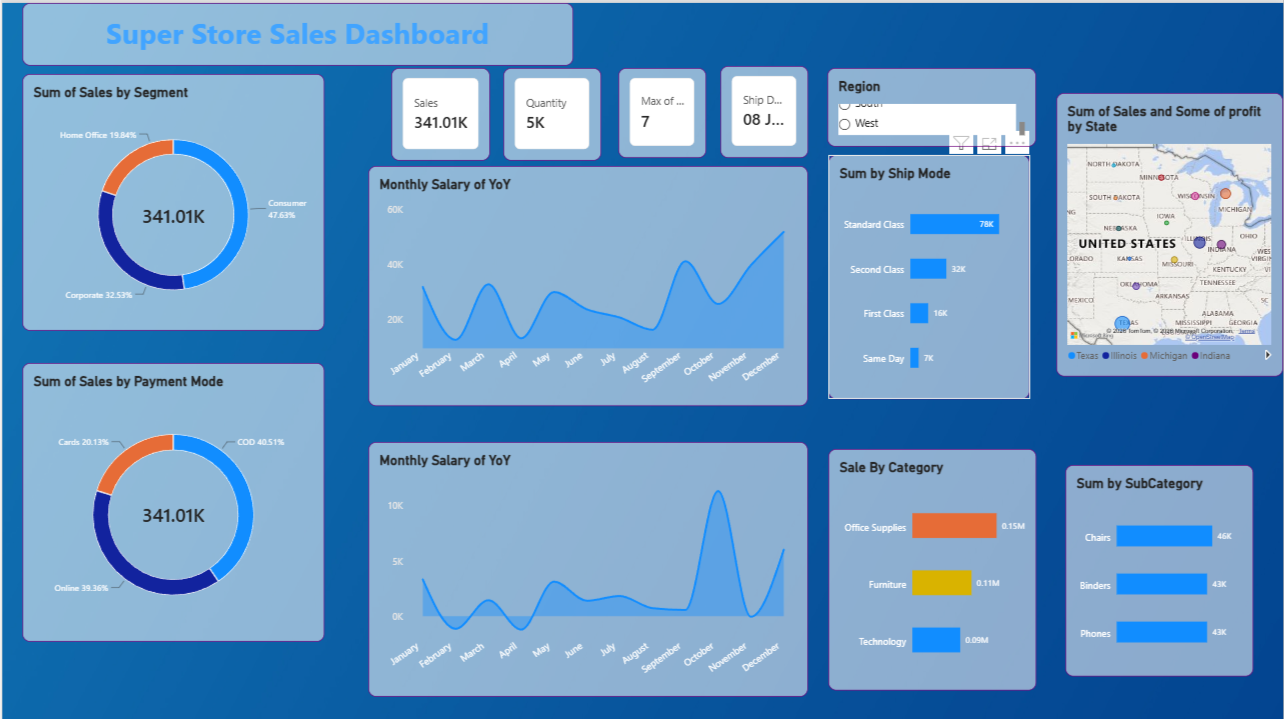

Layout of this report page (visuals, bound fields, positions):
{"tool":"powerbi","page":{"name":"Page 1","canvas":[1920,1080],"ordinal":0},"visuals":[{"type":"clusteredBarChart","title":"Sum by SubCategory","fields":{"Category":["SuperStore_Sales_Dataset.Sub-Category"],"Y":["Sum(SuperStore_Sales_Dataset.Sales)"]},"box":[1593.2,693,281.6,316.6],"z":0},{"type":"clusteredBarChart","title":"Sum by Ship Mode","fields":{"Category":["SuperStore_Sales_Dataset.Ship Mode"],"Y":["Sum(SuperStore_Sales_Dataset.Sales)"]},"box":[1238.7,227.6,302,366.2],"z":1000},{"type":"areaChart","title":"Monthly Salary of YoY","fields":{"Category":["SuperStore_Sales_Dataset.Order Date.Variation.Date Hierarchy.Month","SuperStore_Sales_Dataset.Order Date.Variation.Date Hierarchy.Day"],"Y":["Sum(SuperStore_Sales_Dataset.Sales)"]},"box":[548.6,243.6,659.5,360.4],"z":2000},{"type":"areaChart","title":"Monthly Salary of YoY","fields":{"Category":["SuperStore_Sales_Dataset.Order Date.Variation.Date Hierarchy.Month","SuperStore_Sales_Dataset.Order Date.Variation.Date Hierarchy.Day"],"Y":["Sum(SuperStore_Sales_Dataset.Profit)"]},"box":[548.6,658,659.5,382.2],"z":3000},{"type":"map","title":"Sum of Sales and Some of profit by State","fields":{"Category":["SuperStore_Sales_Dataset.State"],"Series":["SuperStore_Sales_Dataset.State"],"Size":["Sum(SuperStore_Sales_Dataset.Sales)"]},"box":[1580.1,134.2,339.9,424.6],"z":4000},{"type":"clusteredBarChart","title":"Sale By Category","fields":{"Category":["SuperStore_Sales_Dataset.Category"],"Y":["Sum(SuperStore_Sales_Dataset.Sales)"]},"box":[1238.7,668.2,312.2,361.8],"z":5000},{"type":"donutChart","fields":{"Category":["SuperStore_Sales_Dataset.Segment"],"Y":["Sum(SuperStore_Sales_Dataset.Sales)"]},"box":[30,106.4,452.6,385.2],"z":6000},{"type":"donutChart","fields":{"Category":["SuperStore_Sales_Dataset.Payment Mode"],"Y":["Sum(SuperStore_Sales_Dataset.Sales)"]},"box":[30,539.6,452.6,418.2],"z":7000},{"type":"listSlicer","fields":{"Values":["SuperStore_Sales_Dataset.Region"]},"box":[1236.5,97.4,313.3,118.4],"z":8000},{"type":"textbox","box":[30,0,825.9,94.4],"z":9000},{"type":"cardVisual","fields":{"Data":["Sum(SuperStore_Sales_Dataset.Sales)"]},"box":[583,97.4,148.4,139.4],"z":10000},{"type":"cardVisual","fields":{"Data":["Sum(SuperStore_Sales_Dataset.Quantity)"]},"box":[750.9,97.4,146.9,139.4],"z":11000},{"type":"cardVisual","fields":{"Data":["Max(SuperStore_Sales_Dataset.AvgDelivery)"]},"box":[923.3,97.4,131.9,134.9],"z":12000},{"type":"cardVisual","fields":{"Data":["Min(SuperStore_Sales_Dataset.Ship Date)"]},"box":[1076.2,94.4,131.9,137.9],"z":13000}]}

Visuals, with their boxes in screenshot pixels (x1, y1, x2, y2), scaled from the page's 1920x1080 canvas onto the 1284x719 screenshot:
"Sum by SubCategory" clusteredBarChart: rect(1065, 461, 1254, 672)
"Sum by Ship Mode" clusteredBarChart: rect(828, 152, 1030, 395)
"Monthly Salary of YoY" areaChart: rect(367, 162, 808, 402)
"Monthly Salary of YoY" areaChart: rect(367, 438, 808, 693)
"Sum of Sales and Some of profit by State" map: rect(1057, 89, 1283, 372)
"Sale By Category" clusteredBarChart: rect(828, 445, 1037, 686)
donutChart - SuperStore_Sales_Dataset.Segment x Sum(SuperStore_Sales_Dataset.Sales): rect(20, 71, 323, 327)
donutChart - SuperStore_Sales_Dataset.Payment Mode x Sum(SuperStore_Sales_Dataset.Sales): rect(20, 359, 323, 638)
listSlicer - SuperStore_Sales_Dataset.Region: rect(827, 65, 1036, 144)
textbox: rect(20, 0, 572, 63)
cardVisual - Sum(SuperStore_Sales_Dataset.Sales): rect(390, 65, 489, 158)
cardVisual - Sum(SuperStore_Sales_Dataset.Quantity): rect(502, 65, 600, 158)
cardVisual - Max(SuperStore_Sales_Dataset.AvgDelivery): rect(617, 65, 706, 155)
cardVisual - Min(SuperStore_Sales_Dataset.Ship Date): rect(720, 63, 808, 155)
